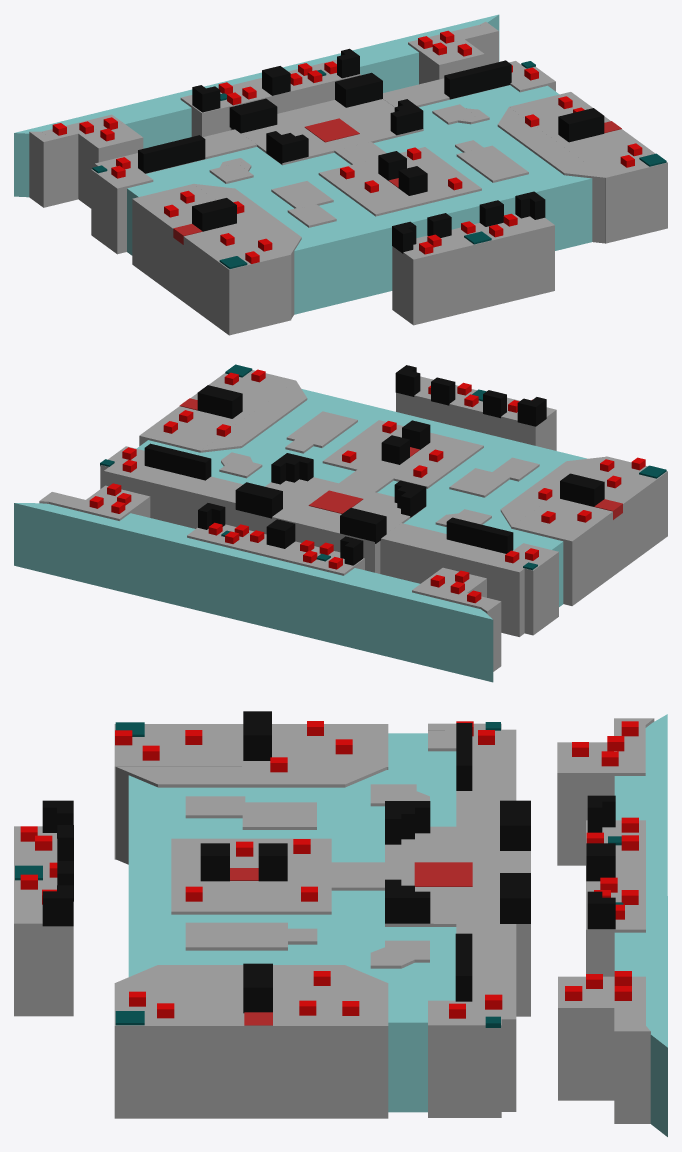
The model's file is Lv2-Room1.fbx.
3 renders of one model, top to bottom at view 1: azimuth 30°, elevation 25°; view 2: azimuth 150°, elevation 25°; view 3: azimuth 270°, elevation 25°, orthographic. The views are drawn at different scales.
Visible parts, largest first — view 1: Ice85, Floor214, Floor209, Floor210, Floor212, Floor208, Ice87, Ice86, Floor226, Floor211, Floor237, Floor230 (+27 smaller); view 2: Ice86, Ice85, Floor214, Floor233, Floor208, Floor234, Floor212, Floor209, Floor210, Floor237, Floor211, Floor226 (+26 smaller); view 3: Ice85, Floor210, Floor208, Floor214, Floor212, Ice86, Floor209, Floor235, Floor228, Floor215, Floor234, Floor230 (+29 smaller).
Part boxes in pixels (x1,y1,x2,y2): Ice85: (127, 85, 592, 314); Floor214: (132, 183, 291, 335); Floor209: (392, 214, 554, 325); Floor210: (509, 92, 667, 243); Floor212: (318, 147, 481, 216); Floor208: (230, 99, 423, 165); Ice87: (114, 44, 418, 148); Ice86: (14, 14, 499, 197); Floor226: (180, 59, 360, 136); Floor211: (497, 107, 605, 243); Floor237: (91, 169, 126, 254); Floor230: (78, 123, 143, 208); Ice86: (14, 503, 493, 682); Ice85: (137, 389, 586, 606); Floor214: (511, 456, 667, 605); Floor233: (380, 523, 539, 636); Floor208: (235, 477, 426, 573); Floor234: (103, 457, 242, 528); Floor212: (322, 420, 483, 488); Floor209: (396, 376, 556, 450); Floor210: (139, 370, 295, 452); Floor237: (524, 549, 558, 635); Floor211: (200, 381, 307, 452); Floor226: (187, 524, 364, 575); Ice85: (128, 733, 456, 1112); Floor210: (114, 983, 388, 1118); Floor208: (385, 826, 530, 1016); Floor214: (114, 724, 388, 859); Floor212: (171, 838, 331, 914); Ice86: (645, 714, 667, 1136); Floor209: (14, 826, 73, 1016); Floor235: (428, 1019, 501, 1117); Floor228: (558, 976, 614, 1100); Floor215: (116, 766, 387, 864); Floor234: (456, 924, 516, 1111); Floor230: (557, 742, 615, 865).
Bounding box in the file's own units: 989 × 163 × 819.
